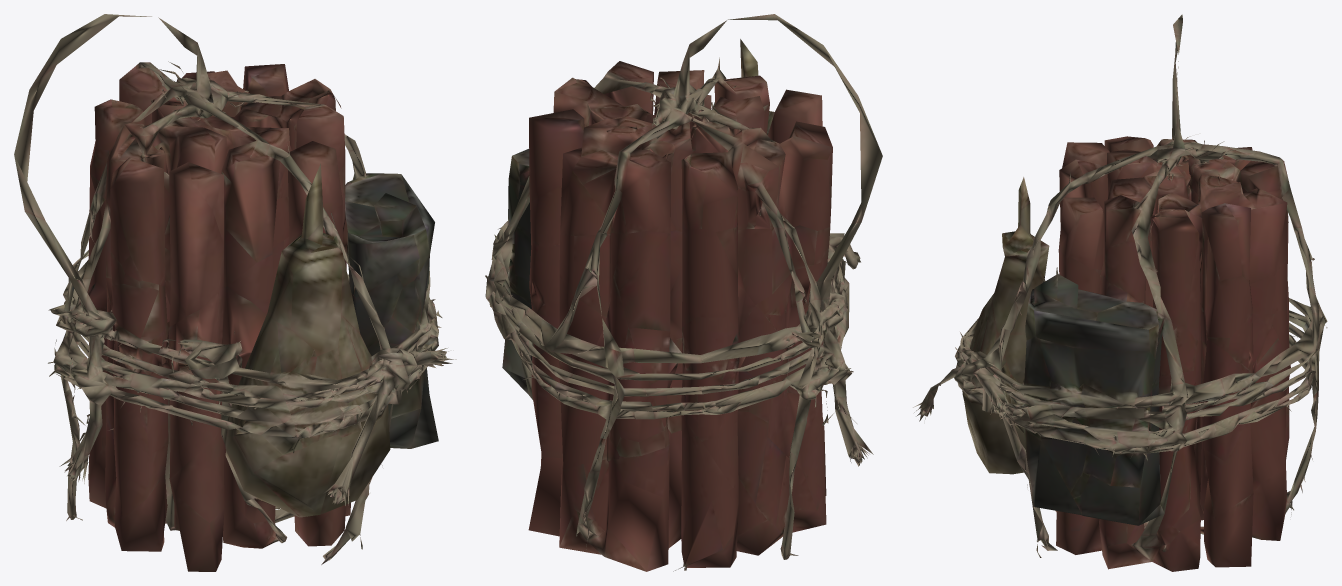
The model's file is quarrymans_charge.b9f0c651.glb.
3 renders of one model, left to right at view 1: azimuth 30°, elevation 25°; view 2: azimuth 150°, elevation 25°; view 3: azimuth 270°, elevation 25°, orthographic. The views are drawn at different scales.
Parts seen in each view (by area): view 1: item; view 2: item; view 3: item.
Part boxes in pixels (x1=…): item: x1=14, y1=14, x2=456, y2=571; item: x1=485, y1=14, x2=882, y2=571; item: x1=913, y1=14, x2=1327, y2=571.
Bounding box in the file's own units: 0.2031 × 0.2582 × 0.2087.
1 material, 1 textured.
